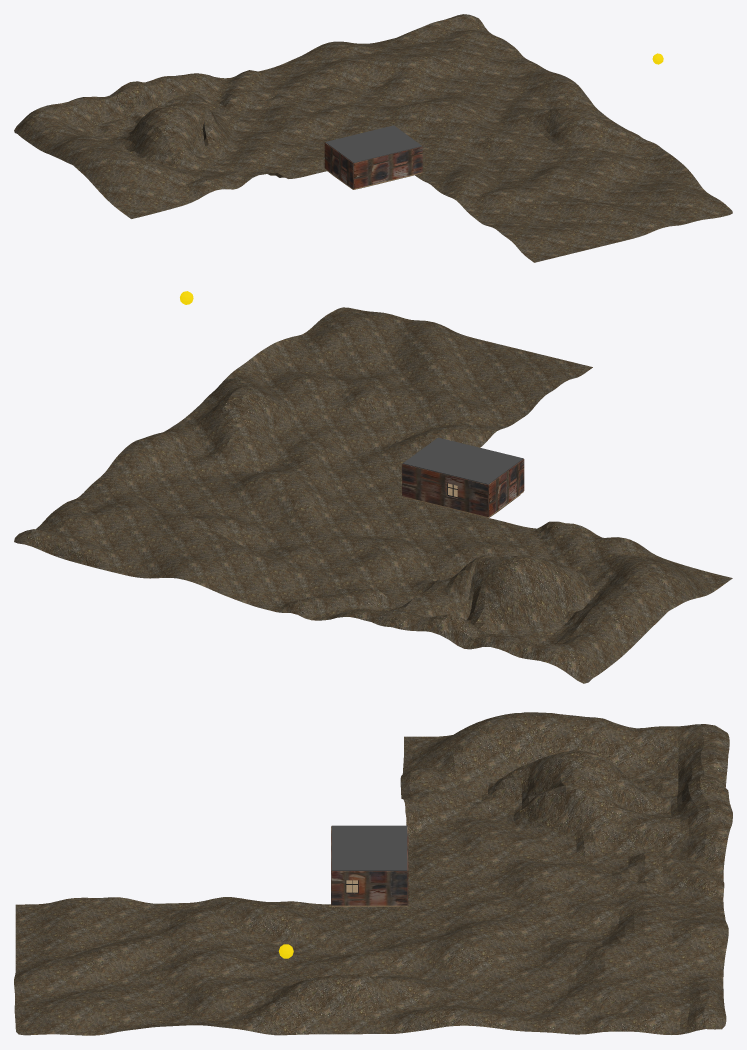
The model's file is TheAlchemistsAssistant.glb.
3 renders of one model, top to bottom at view 1: azimuth 30°, elevation 25°; view 2: azimuth 150°, elevation 25°; view 3: azimuth 270°, elevation 25°, orthographic. The views are drawn at different scales.
Visible parts, largest first — view 1: Floor, Roof, Wall.003, Wall; view 2: Floor, Roof, Wall.002, Wall; view 3: Floor, Roof, Wall.001.
Part boxes in pixels (x1,y1,x2,y2): Floor: (14,14,732,262); Roof: (325,125,422,163); Wall.003: (353,146,422,188); Wall: (324,142,353,188); Floor: (14,307,732,683); Roof: (402,437,523,484); Wall.002: (402,464,488,516); Wall: (488,459,524,516); Floor: (14,712,732,1035); Roof: (331,825,407,870); Wall.001: (331,871,407,905).
Size of the model in its own units: 100 by 16.06 by 95.07.
67 materials, 9 textured.
